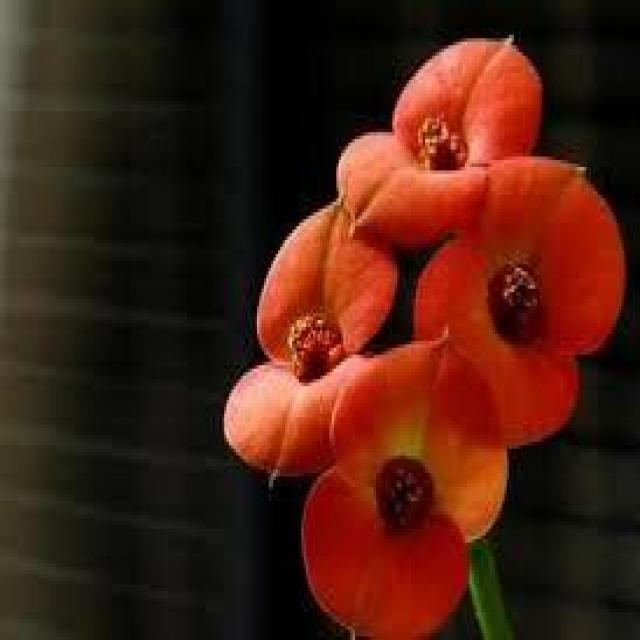organic waste: (430, 158, 628, 458), (305, 322, 496, 624), (332, 16, 563, 262), (218, 184, 398, 456)
